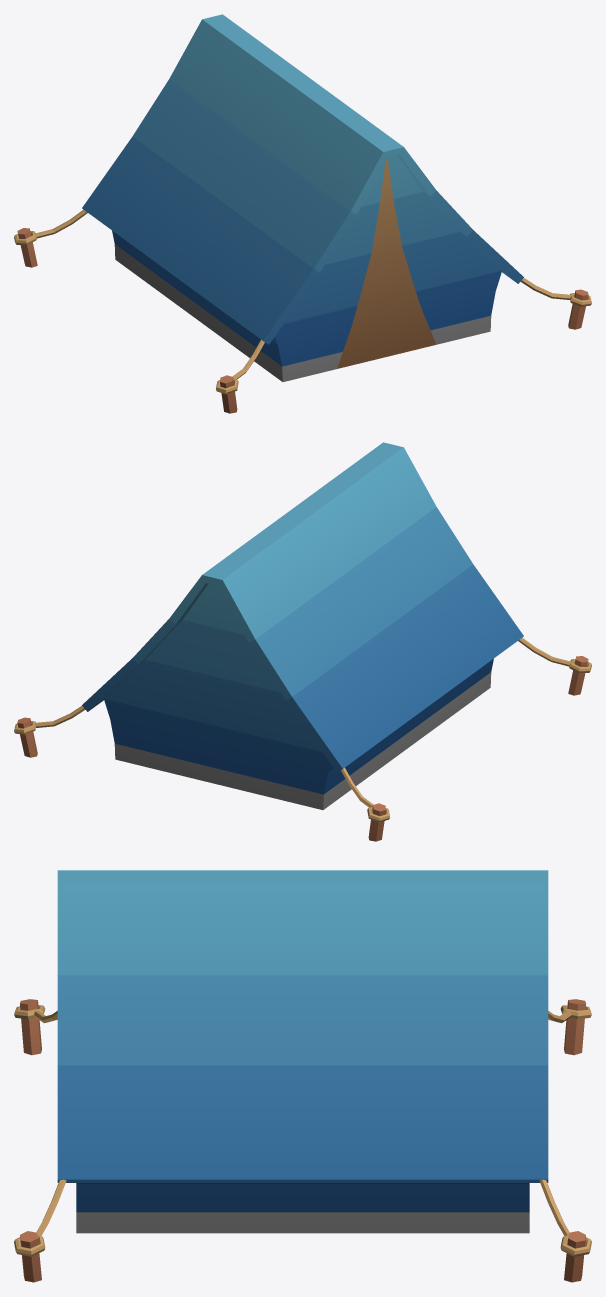
Rendered from camping tent blue.fbx.
The picture shows the model from 3 angles, top to bottom: view 1: azimuth 30°, elevation 25°; view 2: azimuth 150°, elevation 25°; view 3: azimuth 270°, elevation 25°; orthographic projection. The views are drawn at different scales.
Visible parts, largest first — view 1: camping tent blue; view 2: camping tent blue; view 3: camping tent blue.
Part boxes in pixels (box(x1,y1,x2,y2)): camping tent blue: box(14, 14, 591, 413); camping tent blue: box(14, 442, 591, 841); camping tent blue: box(14, 870, 591, 1282).
Size of the model in its own units: 474 by 257 by 467.
